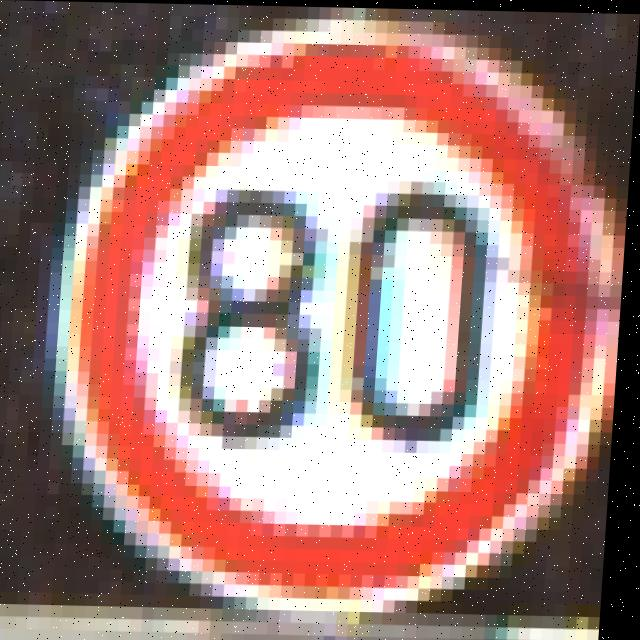speed_limit_80: (35, 31, 624, 599)
